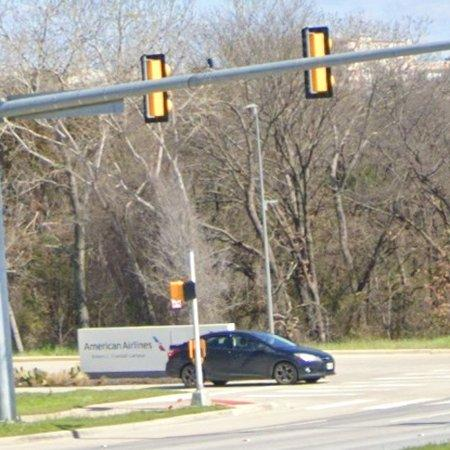traffic lights: (144, 91, 170, 122), (141, 54, 168, 80)
